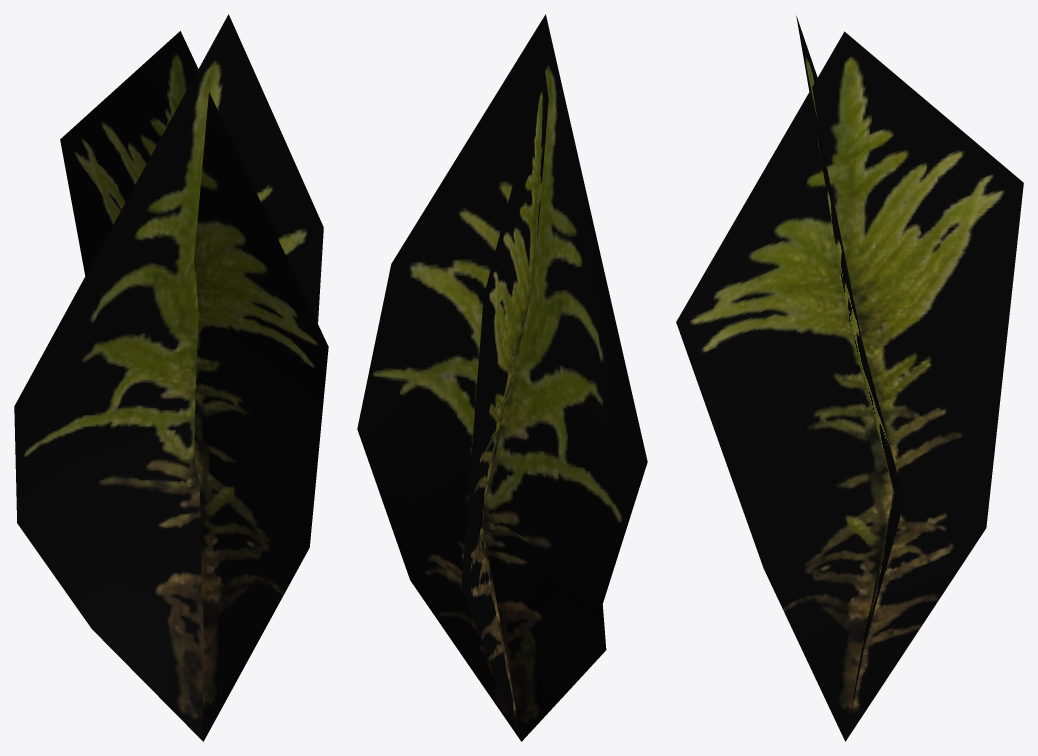
Rendered from Moss_06.fbx.
3 views of the same model, side by side, from view 1: azimuth 30°, elevation 25°; view 2: azimuth 150°, elevation 25°; view 3: azimuth 270°, elevation 25° (orthographic). The views are drawn at different scales.
Visible parts, largest first — view 1: Moss_06; view 2: Moss_06; view 3: Moss_06.
Boxes of the visible parts, x1,y1,x2,y2 form: Moss_06: (14, 14, 328, 741); Moss_06: (357, 14, 647, 741); Moss_06: (676, 16, 1023, 741).
Bounding box in the file's own units: 0.034 × 0.08 × 0.0346.
Materials: 1 (1 with a texture image).
